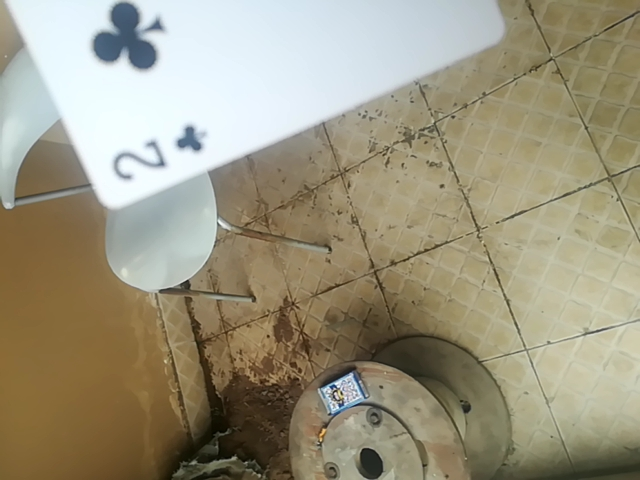mh 2: (17, 0, 506, 208)
